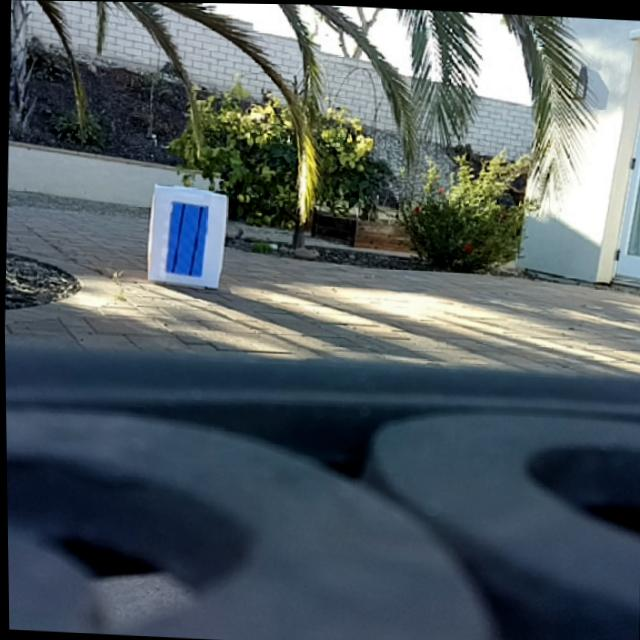led: (165, 200, 204, 277)
